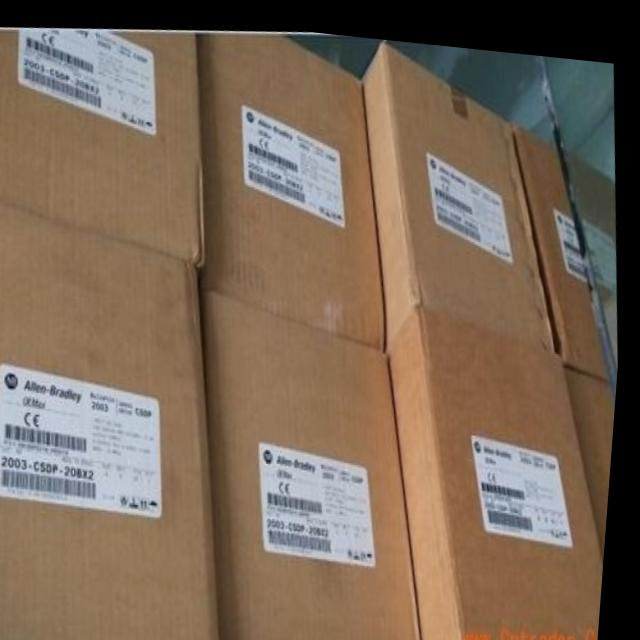box: (0, 199, 229, 640), (205, 286, 430, 640), (394, 296, 611, 640), (197, 27, 391, 340), (363, 34, 560, 342), (0, 26, 208, 262), (514, 110, 622, 371), (568, 352, 621, 549)
